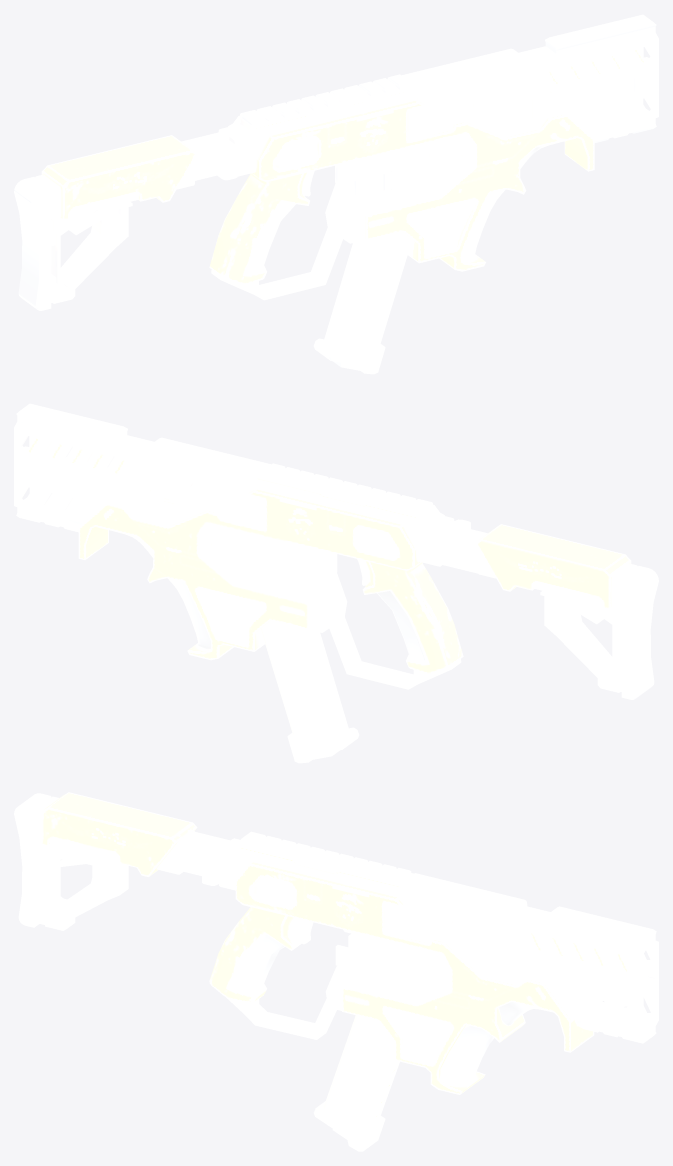
File: Mid_DrumKid.glb
3 views of the same model, one above another, from view 1: azimuth 30°, elevation 25°; view 2: azimuth 150°, elevation 25°; view 3: azimuth 330°, elevation 25° (orthographic).
Visible parts, largest first — view 1: wrap; view 2: wrap; view 3: wrap.
Boxes of the visible parts, left/top/right/bottom form: wrap: left=14, top=14, right=658, bottom=374; wrap: left=14, top=403, right=658, bottom=763; wrap: left=14, top=792, right=658, bottom=1151.
Size of the model in its own units: 0.7032 by 0.3015 by 0.0543.
1 material, 1 textured.
